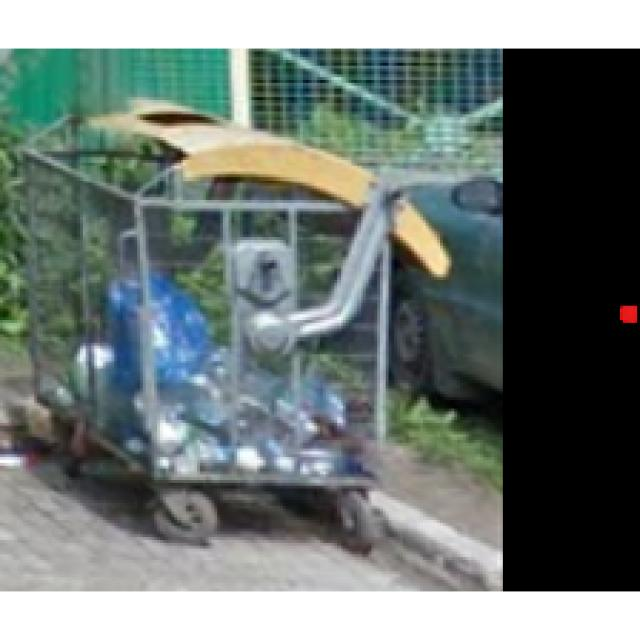plastic trash bin: (28, 110, 395, 570)
